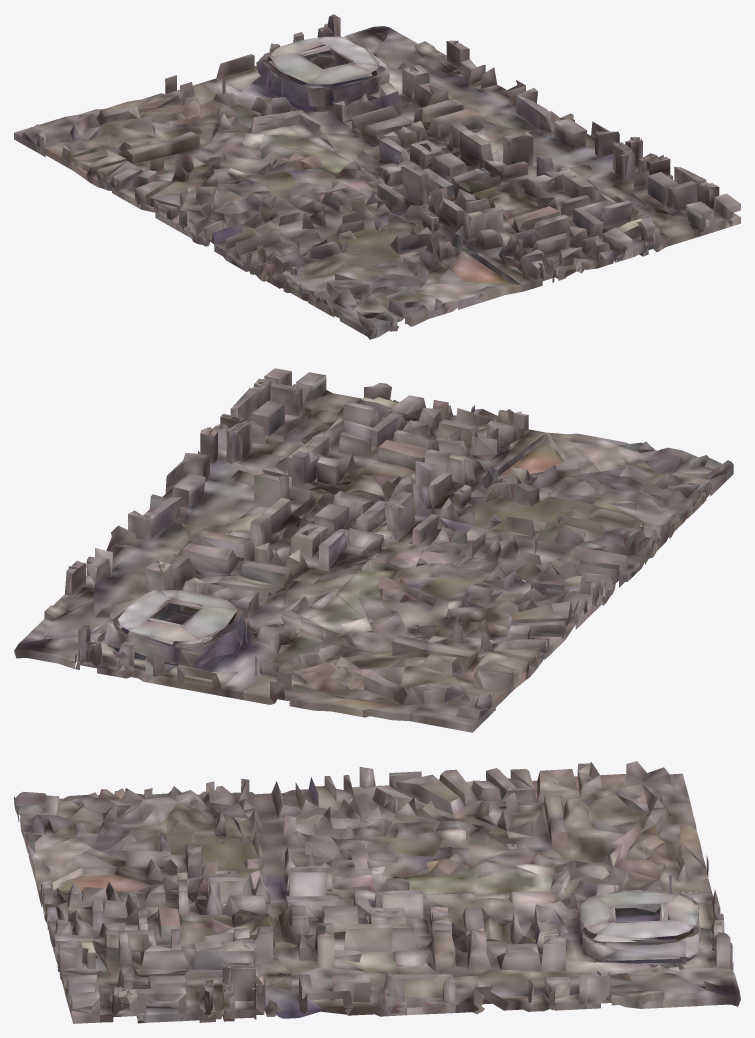
The picture shows the model from 3 angles, top to bottom: view 1: azimuth 30°, elevation 25°; view 2: azimuth 150°, elevation 25°; view 3: azimuth 270°, elevation 25°; orthographic projection. The views are drawn at different scales.
Parts seen in each view (by area): view 1: Mesh_0; view 2: Mesh_0; view 3: Mesh_0.
Boxes of the visible parts, x1=… form: Mesh_0: x1=14, y1=14, x2=740, y2=339; Mesh_0: x1=14, y1=368, x2=733, y2=732; Mesh_0: x1=14, y1=761, x2=740, y2=1023.
Bounding box in the file's own units: 1064 × 99.41 × 1320.
Materials: 1 (1 with a texture image).
